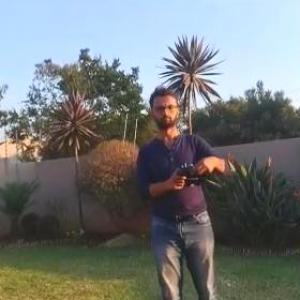follow: (133, 75, 236, 299)
